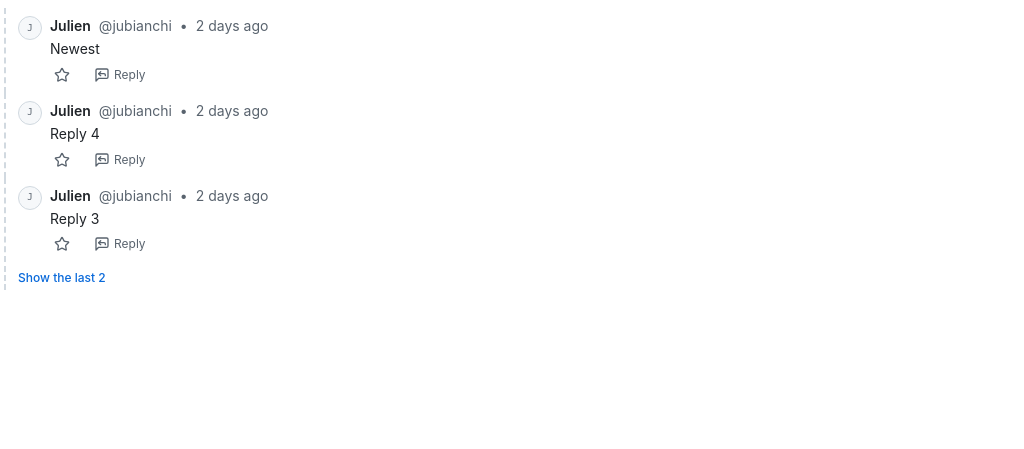
it: Replies › shows the rest of the loaded replies on demand, newest first, without asking again
This screenshot has width=1024, height=449.
Click the button "Show the last 2": (55, 278) 4,266 -> 106,290
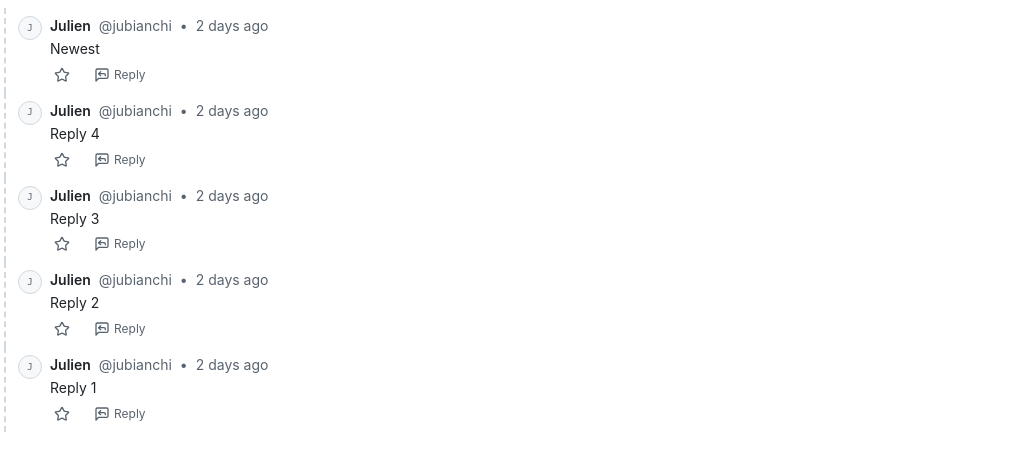
Now the element showing "J Julien @jubianchi • 2 days ago Reply 1 Reply" is shown, box 4,347 -> 1023,432
